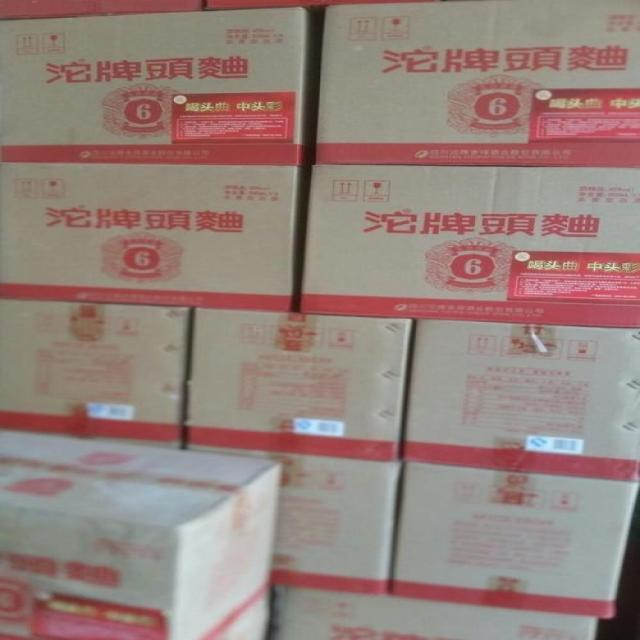box: (1, 430, 280, 640), (301, 165, 640, 328), (315, 0, 640, 168), (0, 8, 320, 168), (0, 163, 308, 312), (392, 461, 639, 619), (404, 320, 640, 482), (189, 309, 410, 461), (188, 445, 402, 596), (0, 297, 189, 449), (271, 587, 598, 640), (205, 588, 270, 640), (206, 0, 439, 9), (0, 634, 28, 640)
